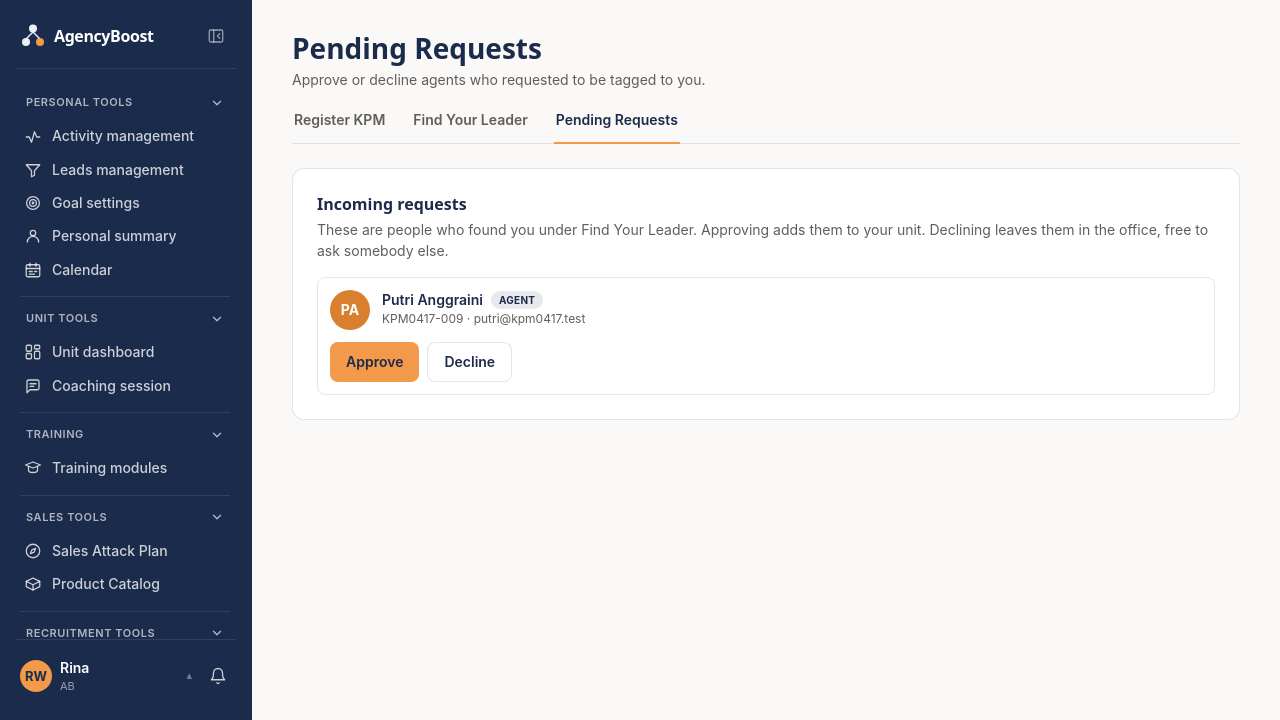
Test: the approval inbox (P3-T5) › AC-4: reloads when somebody else decided first, rather than leaving a dead row
The image size is (1280, 720).
Step 1. Click the button "Approve" → (375, 362), box [330,342,419,382]
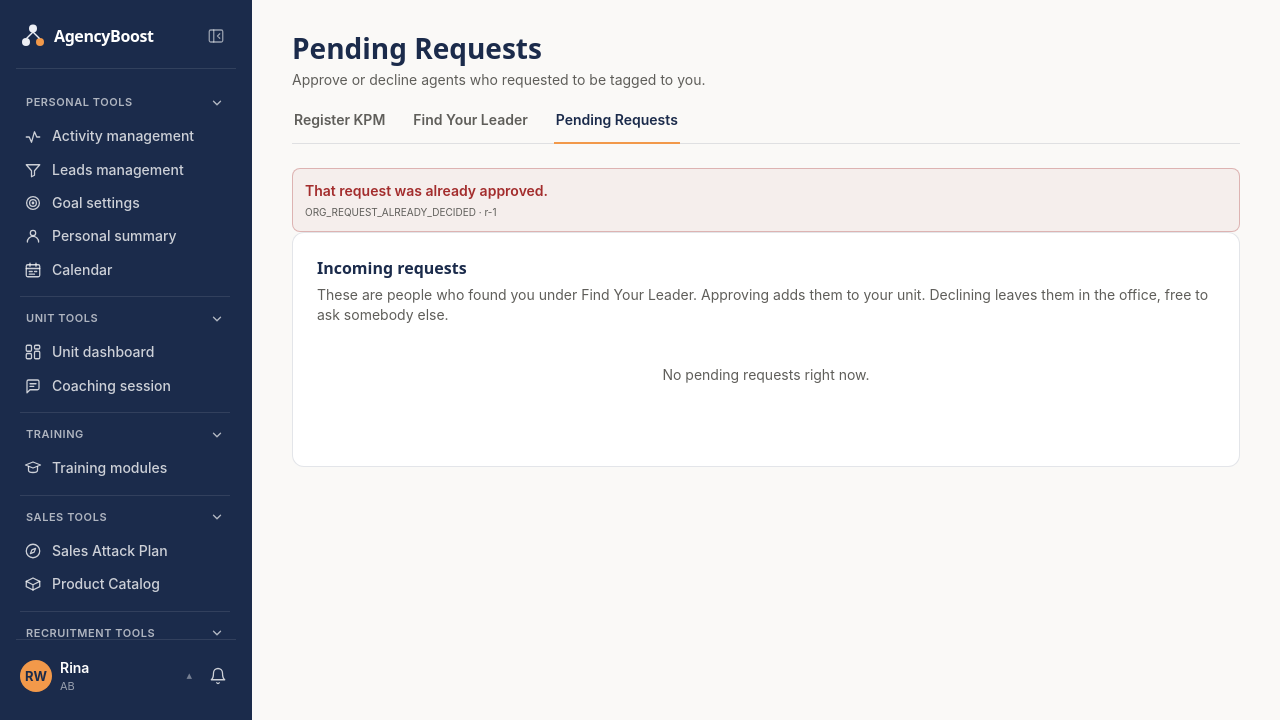
Result: the message shows "already approved" at [305,182,548,199]
